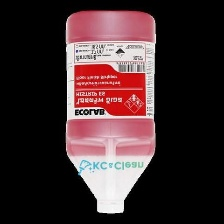cleaning_solution: (59, 6, 157, 217)
